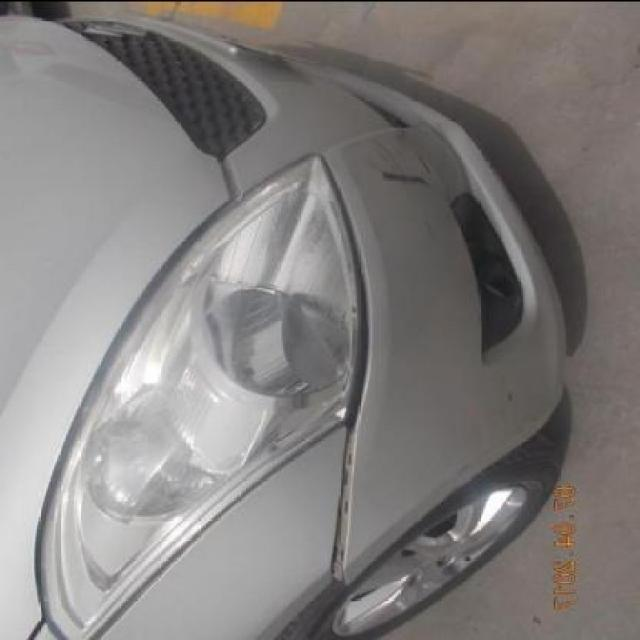damage: (322, 205, 377, 587), (373, 169, 435, 188), (415, 154, 438, 167)
